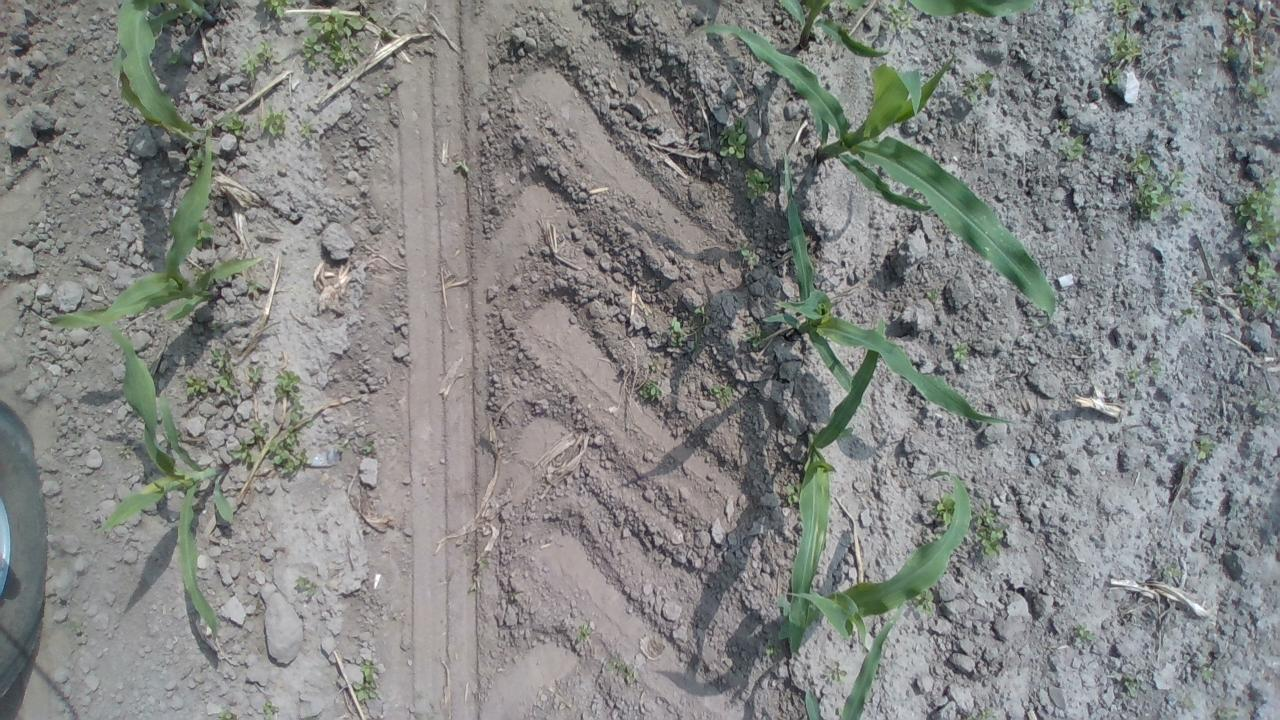Maize: (699, 19, 1060, 322), (778, 148, 1019, 430), (98, 315, 236, 642), (45, 137, 272, 332), (780, 307, 891, 660), (784, 470, 972, 646), (772, 1, 1042, 64), (108, 0, 219, 142), (794, 617, 900, 720)
Weeds: (300, 5, 370, 74), (1228, 170, 1280, 254), (1136, 170, 1194, 226), (1235, 255, 1280, 316), (268, 427, 310, 482), (970, 507, 1006, 560), (1104, 25, 1149, 66), (208, 348, 241, 402), (1049, 118, 1087, 160), (716, 116, 750, 160), (961, 63, 996, 103), (352, 659, 382, 703), (742, 165, 774, 204), (742, 323, 776, 359), (879, 2, 916, 35), (604, 652, 642, 684), (665, 315, 692, 354), (933, 490, 960, 529), (225, 438, 258, 468), (258, 107, 286, 142), (331, 432, 375, 454), (263, 0, 303, 24), (1190, 432, 1220, 463), (276, 366, 303, 400), (1128, 357, 1166, 381), (708, 380, 739, 409), (752, 633, 781, 663), (190, 218, 216, 251), (1122, 148, 1151, 176), (1232, 7, 1260, 36), (639, 374, 666, 404), (292, 573, 322, 600), (912, 586, 938, 617), (186, 150, 213, 179), (222, 111, 248, 141), (182, 372, 212, 398), (784, 481, 814, 507), (1242, 75, 1270, 102), (244, 360, 266, 393), (249, 416, 273, 446), (1107, 0, 1141, 21), (1104, 64, 1130, 90), (1250, 47, 1276, 73), (1124, 672, 1148, 700), (1071, 620, 1099, 644), (240, 53, 266, 78), (255, 38, 279, 65), (1252, 397, 1277, 422), (964, 705, 1004, 720), (822, 661, 846, 686), (950, 338, 971, 366), (571, 622, 595, 646), (450, 156, 476, 178), (1219, 42, 1242, 66), (211, 704, 245, 720), (284, 399, 304, 426), (160, 44, 182, 68), (260, 700, 285, 720), (1213, 705, 1246, 720), (1066, 0, 1096, 16), (297, 118, 315, 144), (926, 284, 944, 310), (246, 276, 264, 302), (738, 244, 758, 266), (1162, 560, 1184, 580), (1180, 302, 1202, 321), (1200, 662, 1216, 682)
